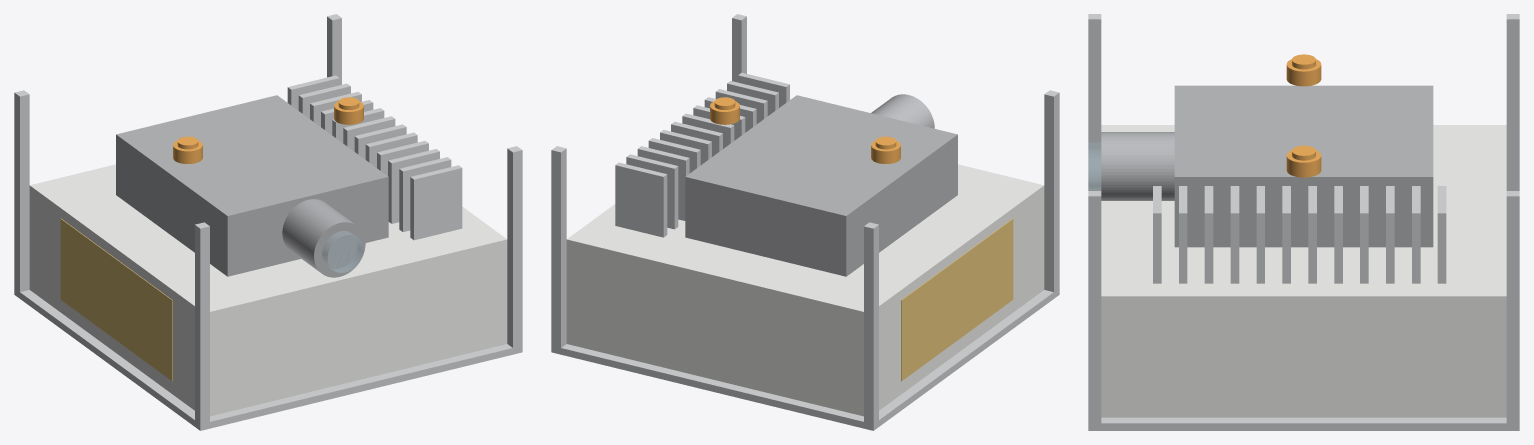
Rendered from sci01_spectrometer_medium.glb.
The picture shows the model from 3 angles, left to right: view 1: azimuth 30°, elevation 25°; view 2: azimuth 150°, elevation 25°; view 3: azimuth 270°, elevation 25°; orthographic projection. The views are drawn at different scales.
Visible parts, largest first — view 1: body, spectrometer, slot_frame, cooler, gold_panels, optics, port_2, port_1; view 2: body, spectrometer, slot_frame, cooler, gold_panels, port_2, port_1; view 3: body, spectrometer, slot_frame, cooler, port_2, port_1, optics.
Part boxes in pixels (box(x1,y1,x2,y2)): body: box(29, 164, 507, 416); spectrometer: box(116, 95, 388, 277); slot_frame: box(14, 14, 522, 430); cooler: box(287, 75, 462, 240); gold_panels: box(60, 218, 172, 381); optics: box(322, 231, 362, 272); port_2: box(334, 97, 363, 124); port_1: box(173, 136, 202, 163); body: box(566, 164, 1044, 416); spectrometer: box(685, 94, 957, 276); slot_frame: box(551, 14, 1059, 430); cooler: box(615, 72, 789, 237); gold_panels: box(901, 218, 1013, 381); port_2: box(710, 97, 739, 124); port_1: box(871, 136, 900, 163); body: box(1101, 125, 1506, 417); spectrometer: box(1101, 85, 1433, 247); slot_frame: box(1088, 14, 1519, 430); cooler: box(1153, 186, 1446, 283); port_2: box(1286, 145, 1321, 177); port_1: box(1286, 54, 1321, 86); optics: box(1088, 142, 1101, 190).
Size of the model in its own units: 1 by 0.6 by 1.
